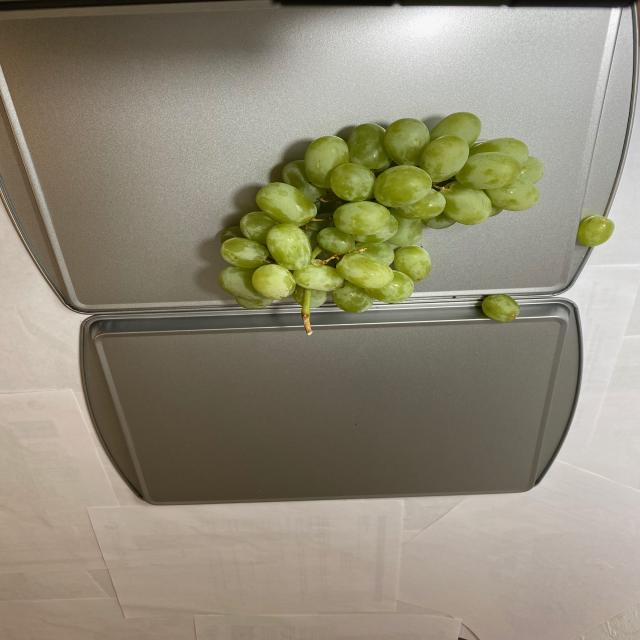grapes: (178, 109, 544, 327), (572, 210, 616, 248)
